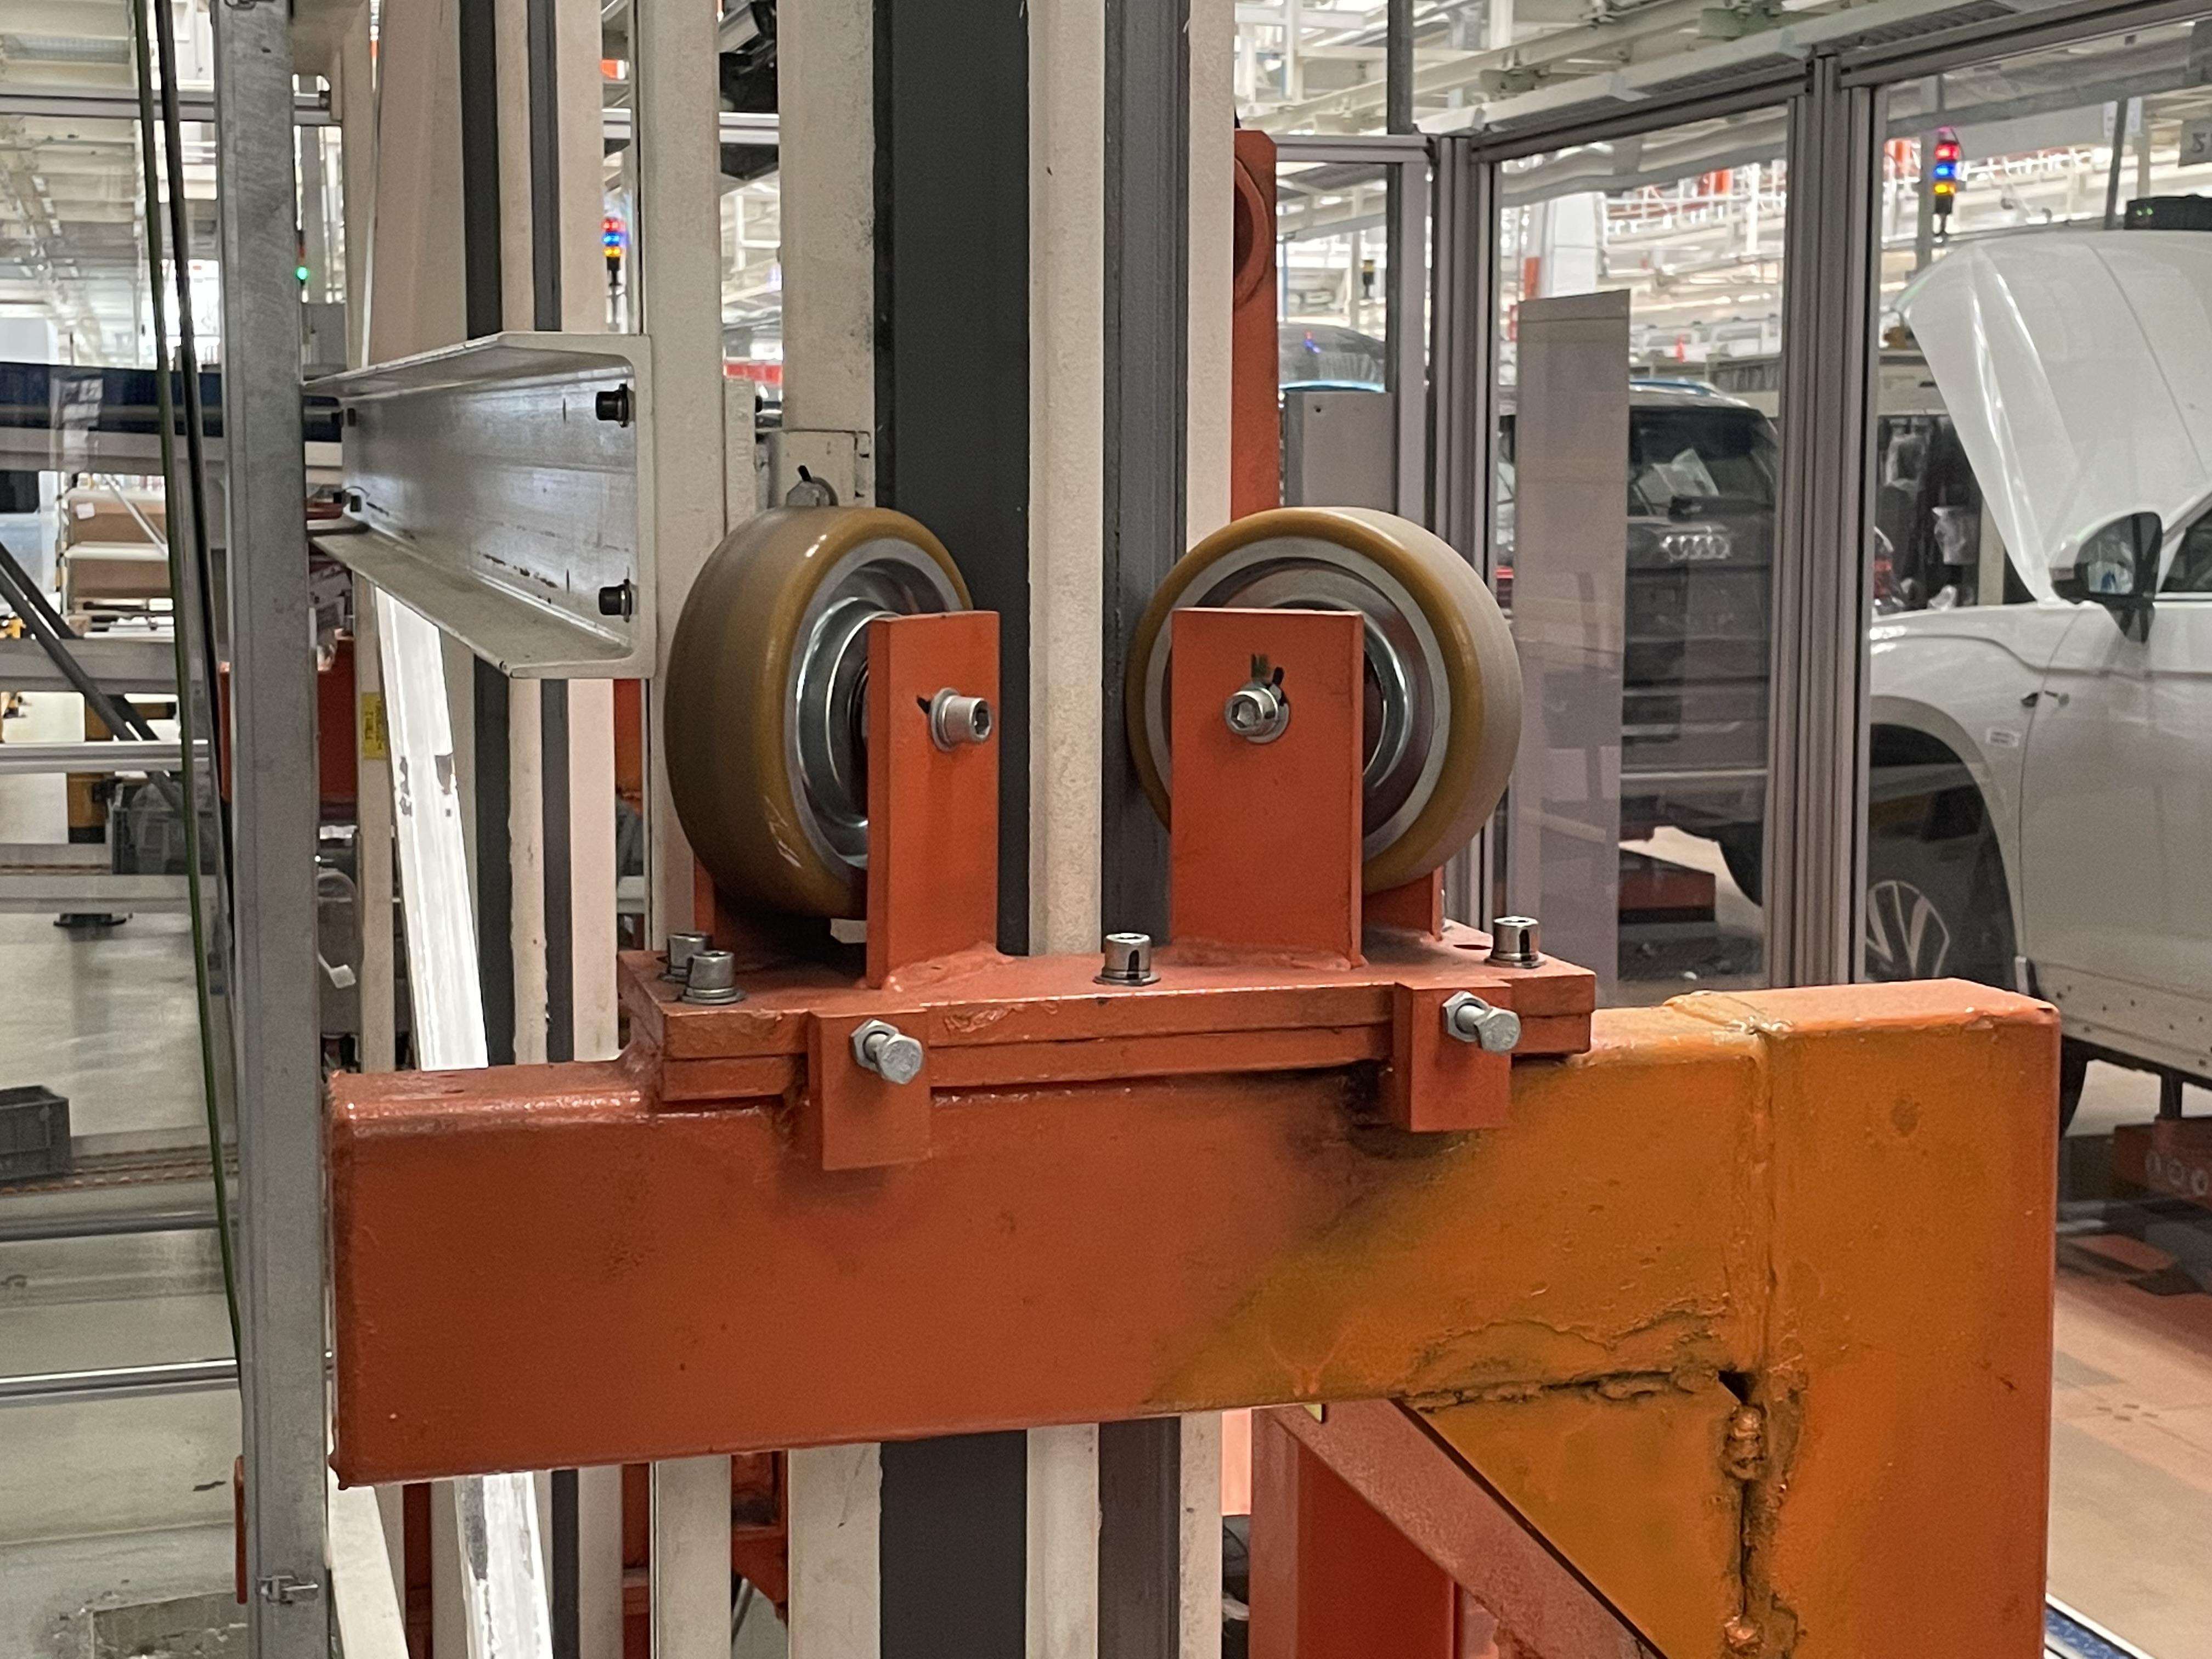good_wheel: (1108, 498, 1543, 903), (681, 477, 1019, 911)
